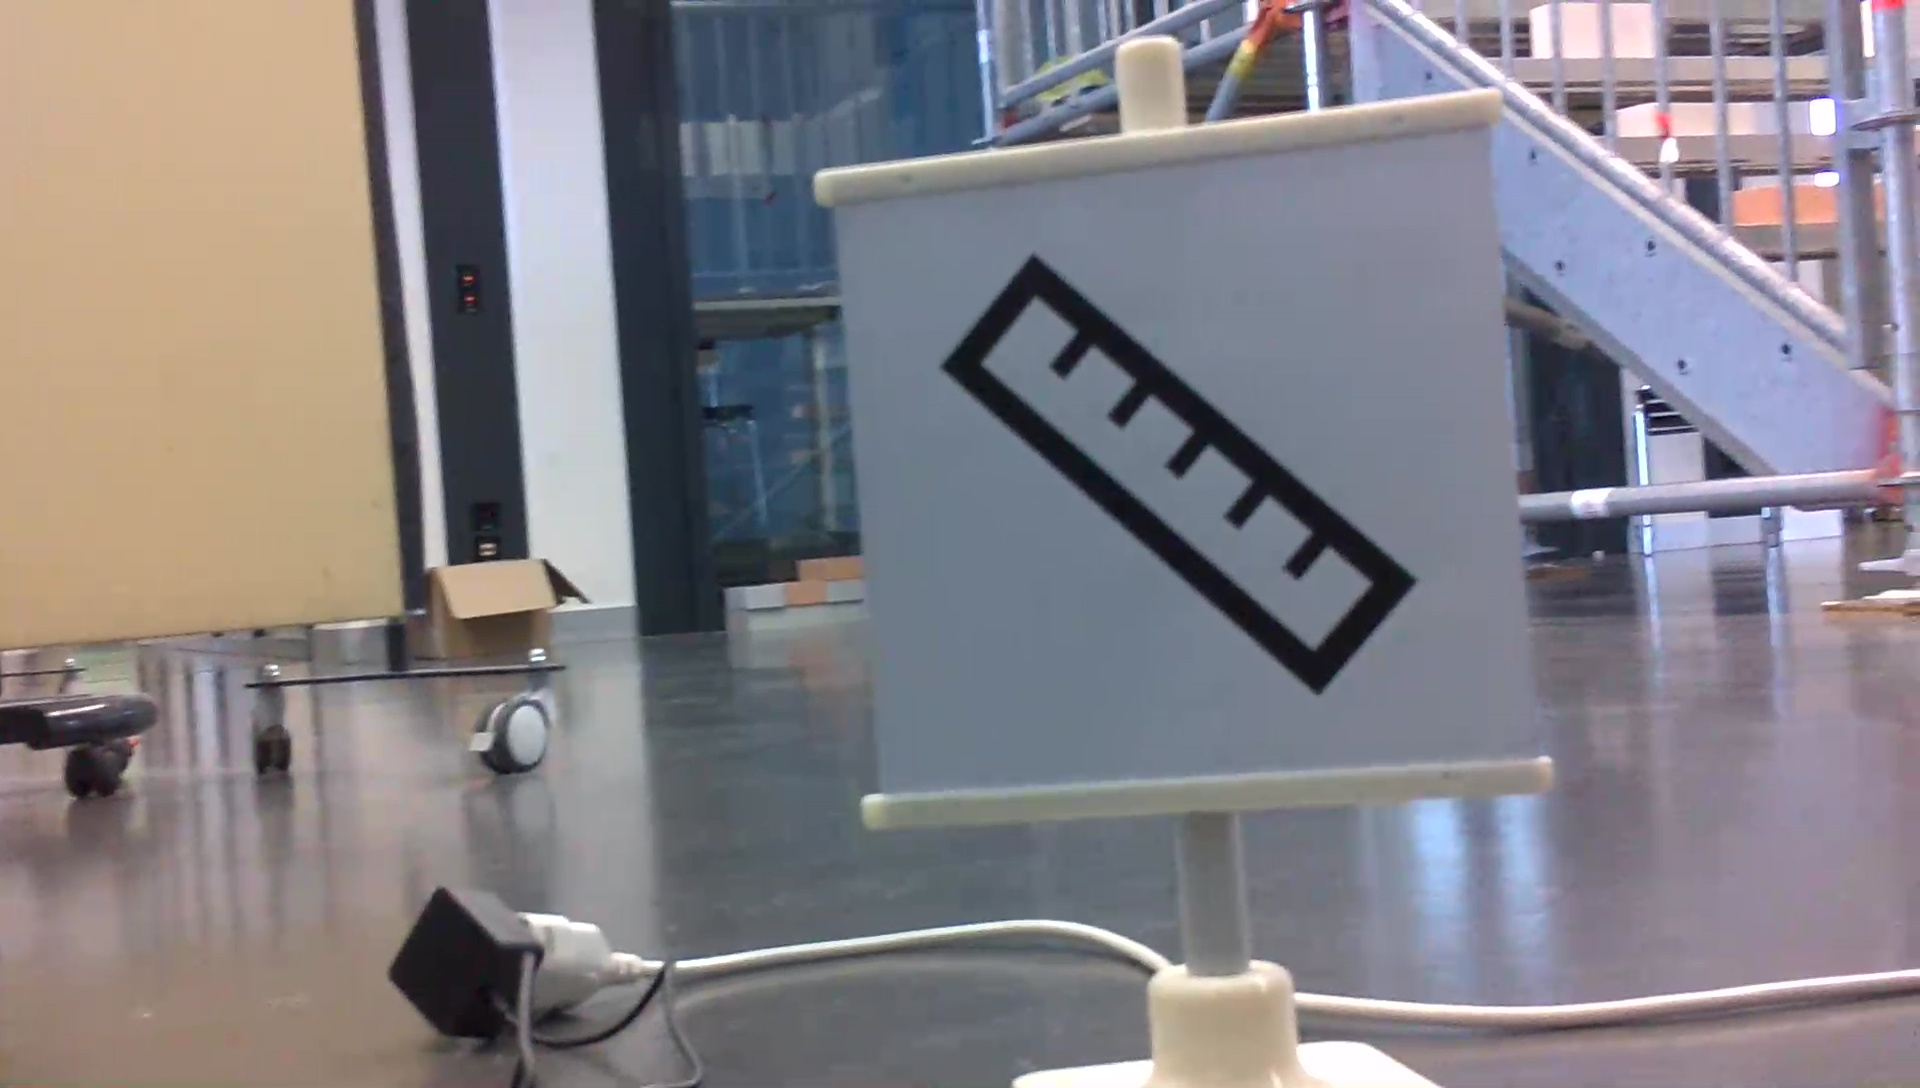ruler: (923, 215, 1429, 698)
